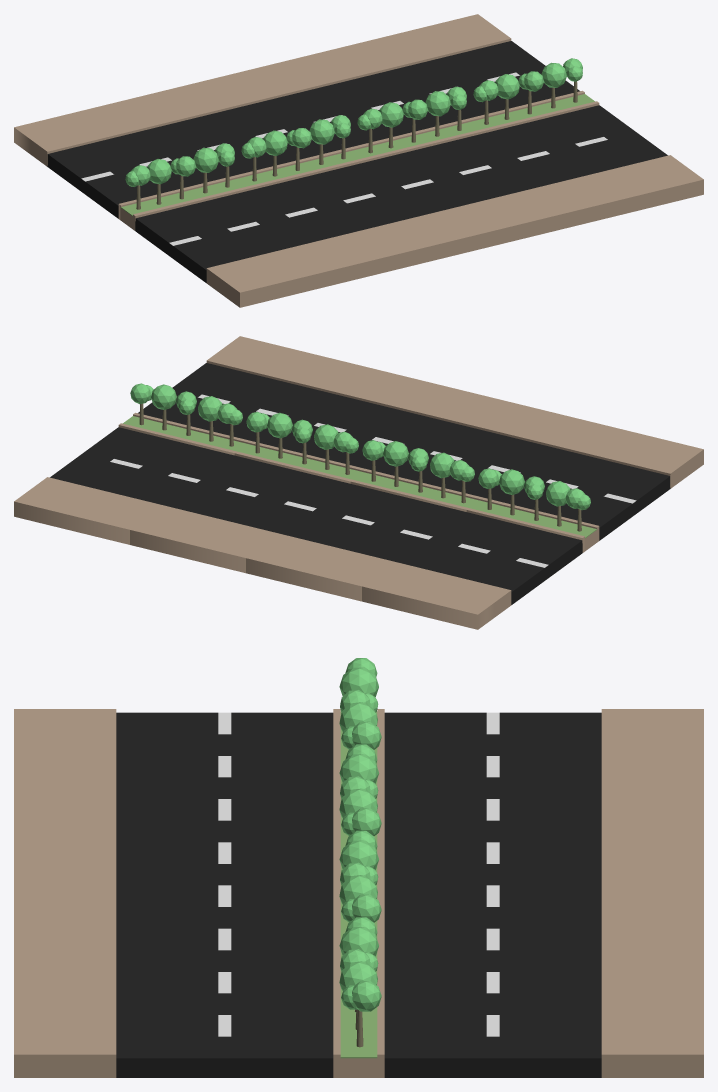
File: road_avenue_offset.fbx
3 renders of one model, top to bottom at view 1: azimuth 30°, elevation 25°; view 2: azimuth 150°, elevation 25°; view 3: azimuth 270°, elevation 25°, orthographic. The views are drawn at different scales.
Parts seen in each view (by area): view 1: Cube.000; view 2: Cube.000; view 3: Cube.000.
Part boxes in pixels (<box>): Cube.000: <box>14,14,703,307</box>; Cube.000: <box>14,336,703,629</box>; Cube.000: <box>14,658,703,1077</box>.
Size of the model in its own units: 6402 by 757 by 5400.
